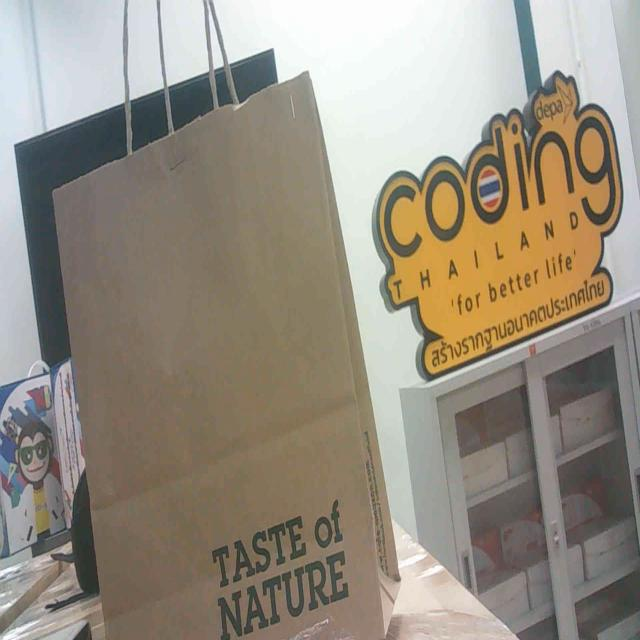bag: (42, 24, 390, 640)
